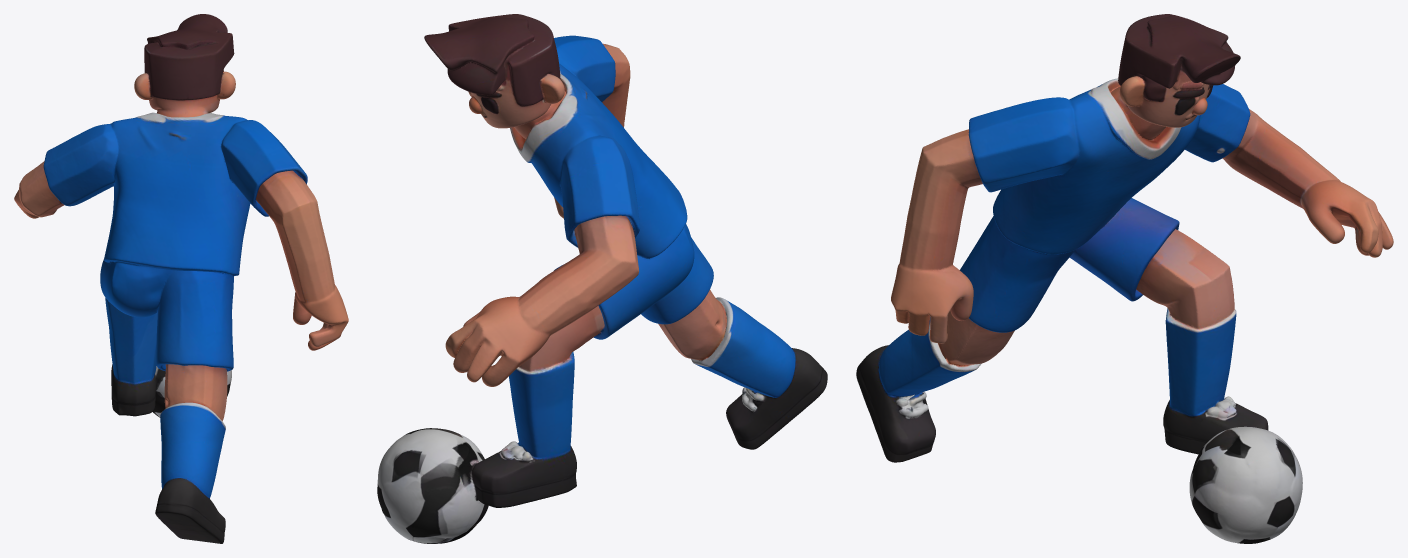
File: stylized-five-a-side-football-player-in-blue-kit-g.glb
3 renders of one model, left to right at view 1: azimuth 30°, elevation 25°; view 2: azimuth 150°, elevation 25°; view 3: azimuth 270°, elevation 25°, orthographic. The views are drawn at different scales.
Visible parts, largest first — view 1: tripo_node_d13caec9-407e-4965-8346-147bc95289fa; view 2: tripo_node_d13caec9-407e-4965-8346-147bc95289fa; view 3: tripo_node_d13caec9-407e-4965-8346-147bc95289fa.
Boxes of the visible parts, x1=… form: tripo_node_d13caec9-407e-4965-8346-147bc95289fa: x1=14, y1=14, x2=348, y2=543; tripo_node_d13caec9-407e-4965-8346-147bc95289fa: x1=377, y1=14, x2=827, y2=543; tripo_node_d13caec9-407e-4965-8346-147bc95289fa: x1=856, y1=14, x2=1393, y2=543.
Size of the model in its own units: 0.5544 by 1 by 0.979.
1 material, 1 textured.
